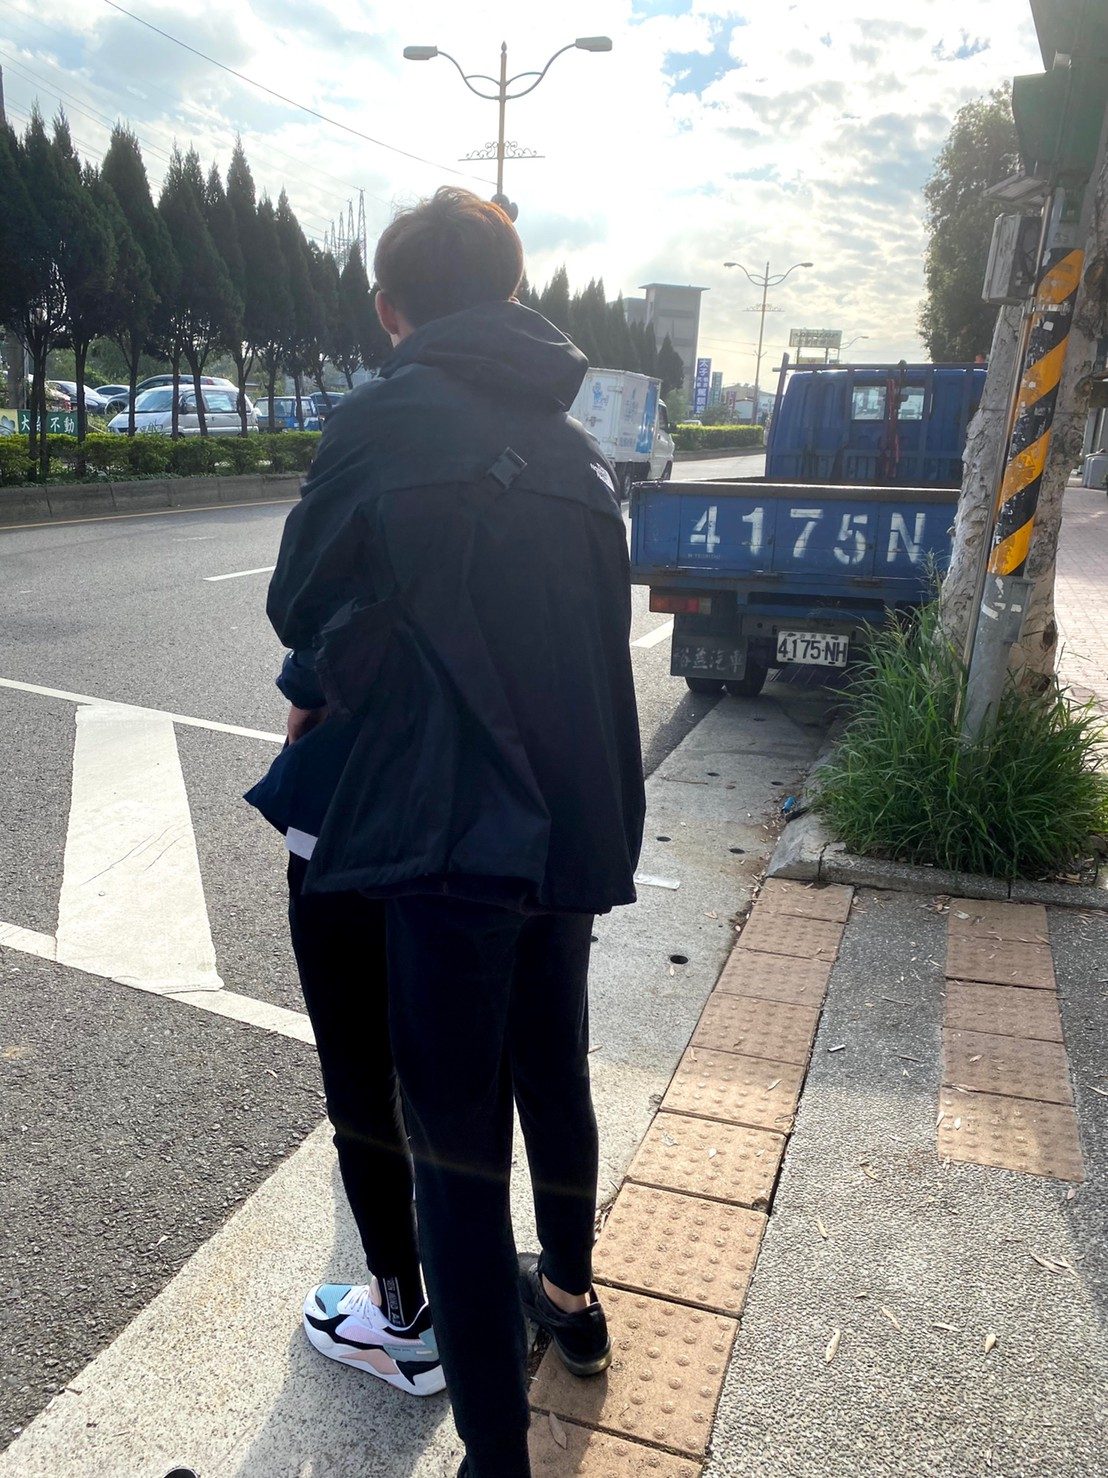people: (309, 183, 626, 1478)
